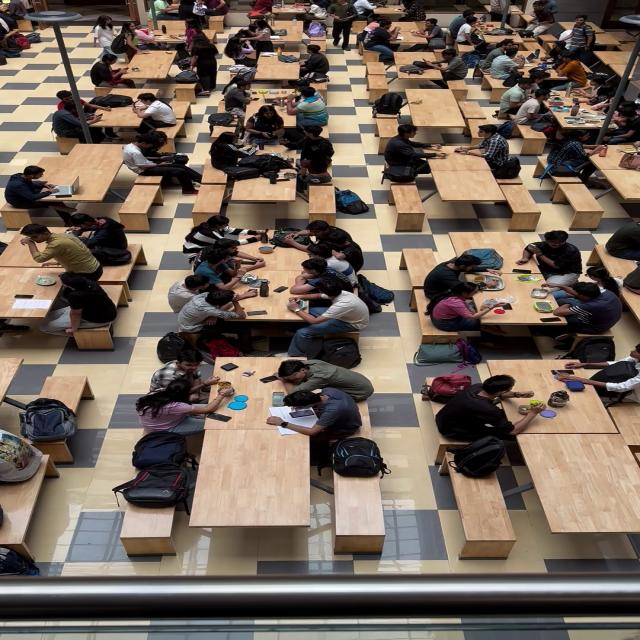Occupied: (184, 210, 394, 351), (425, 235, 626, 338), (142, 349, 366, 439), (419, 344, 640, 435), (4, 213, 148, 344), (490, 39, 640, 134), (214, 106, 357, 169), (38, 72, 179, 133), (387, 120, 517, 180), (234, 24, 330, 92), (0, 391, 74, 479), (466, 0, 616, 43), (0, 157, 89, 214), (121, 427, 188, 501), (119, 139, 206, 192), (8, 156, 81, 218), (555, 134, 640, 182), (431, 434, 517, 478), (320, 435, 396, 484), (362, 21, 457, 59), (89, 51, 174, 90), (109, 19, 223, 48), (611, 214, 640, 319), (0, 1, 48, 64), (342, 0, 443, 28), (245, 0, 336, 26), (379, 89, 432, 125), (146, 1, 232, 19)
Unoccupied: (526, 436, 640, 535), (206, 428, 316, 528), (443, 484, 525, 542), (328, 487, 388, 544), (115, 502, 176, 546), (0, 484, 30, 564), (435, 182, 507, 210), (82, 152, 132, 192), (498, 179, 538, 221), (228, 182, 296, 206), (121, 176, 160, 217), (561, 186, 604, 223), (388, 187, 423, 223), (304, 184, 338, 217), (360, 64, 390, 95), (196, 179, 220, 214), (612, 180, 640, 210), (34, 378, 93, 392)
